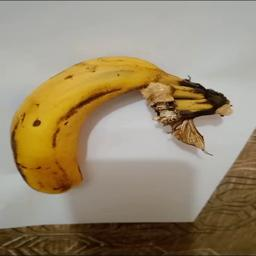Banana Semifresh: (5, 54, 234, 195)
